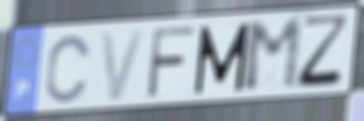C: (43, 32, 93, 106)
F: (144, 24, 198, 101)
M: (242, 15, 305, 96), (193, 20, 252, 97)
V: (98, 26, 148, 104)
Z: (295, 12, 353, 91)
